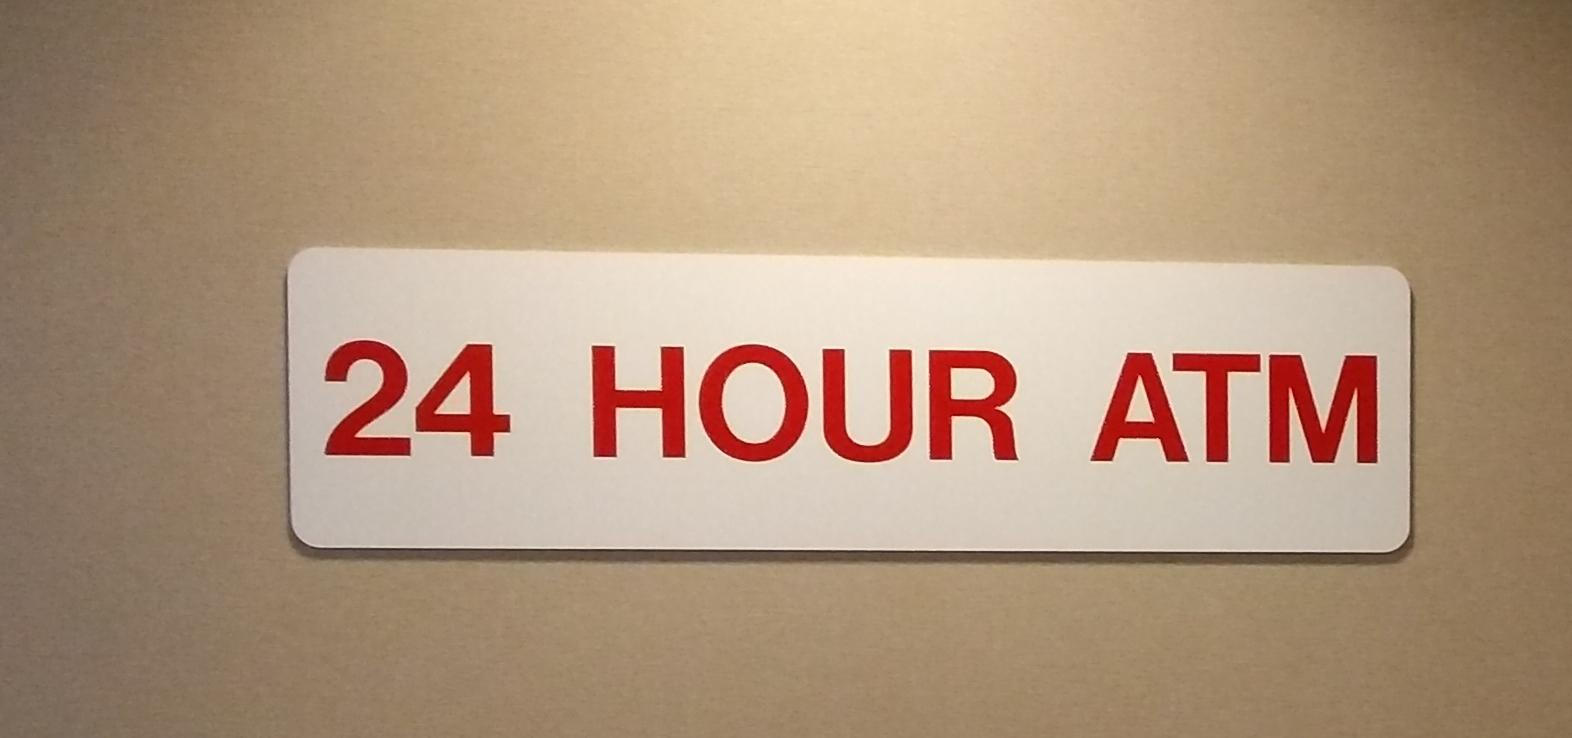sign: (289, 250, 1408, 552)
